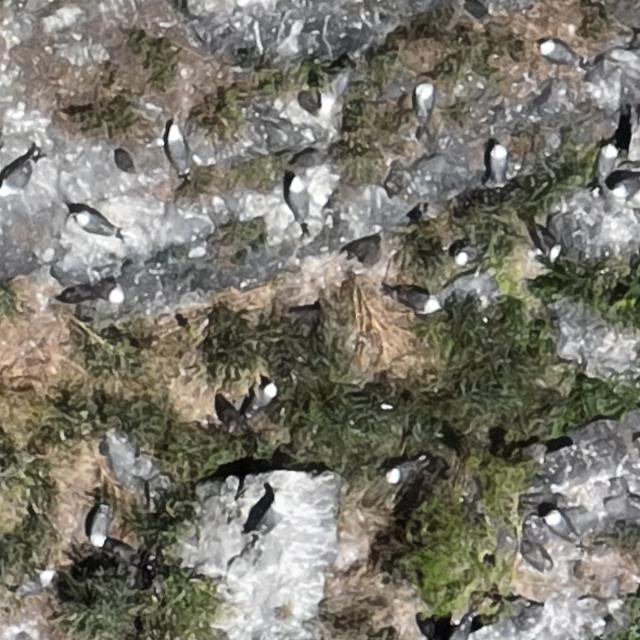umineko: (0, 155, 38, 196), (256, 490, 289, 535), (290, 174, 312, 228), (167, 123, 190, 172), (88, 276, 124, 303), (394, 291, 438, 313), (298, 88, 332, 116), (537, 224, 561, 261), (546, 512, 573, 540), (76, 214, 110, 236), (18, 570, 52, 592), (540, 42, 572, 64), (388, 461, 420, 483), (596, 145, 616, 179), (90, 509, 109, 544), (255, 384, 277, 412), (491, 146, 508, 181), (455, 244, 484, 264), (416, 83, 432, 118), (614, 178, 638, 197)
